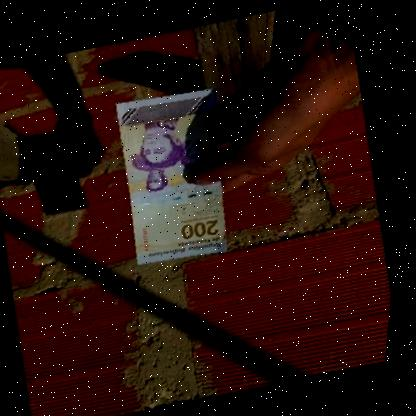two_hundred-front-vef: (103, 80, 245, 269)
